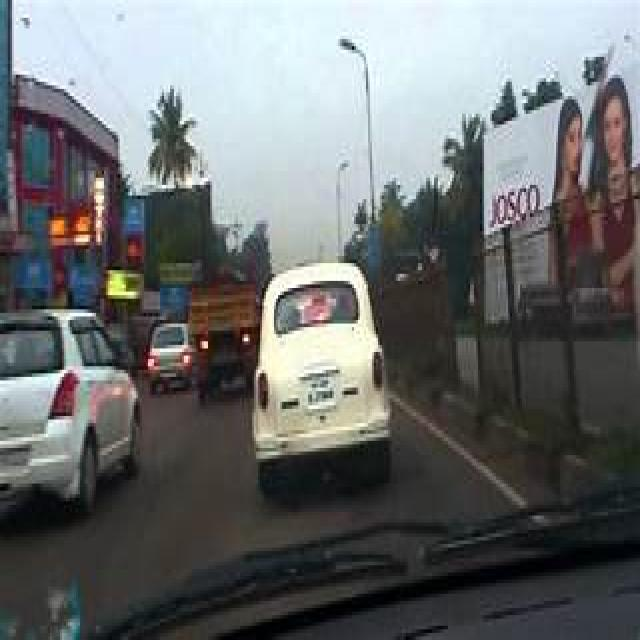Car: (252, 267, 389, 477), (0, 313, 139, 508), (152, 324, 189, 384)
Truck: (190, 282, 260, 399)
